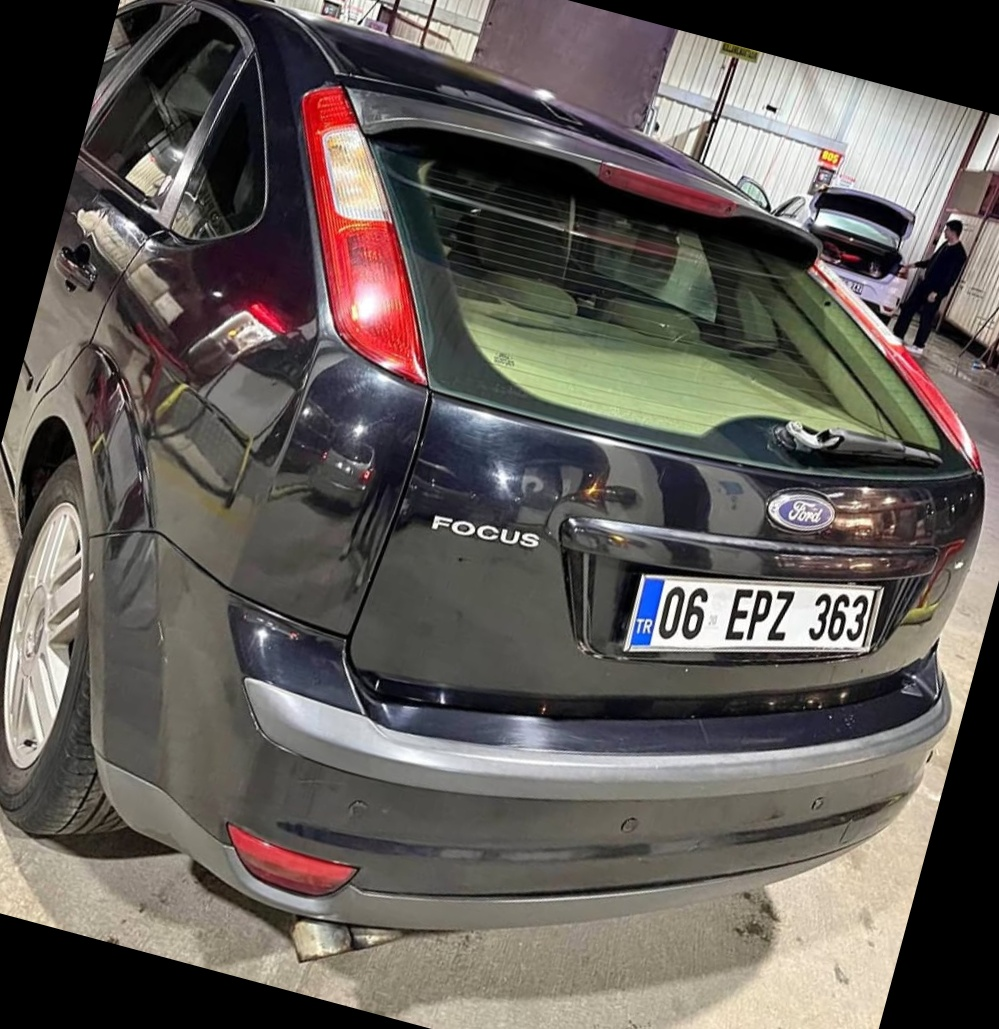plaka: (662, 564, 870, 653)
